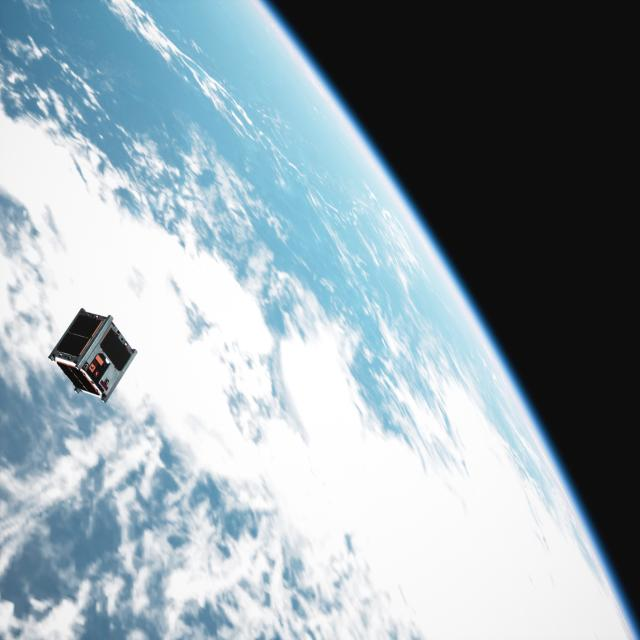satellite: (48, 303, 140, 402)
